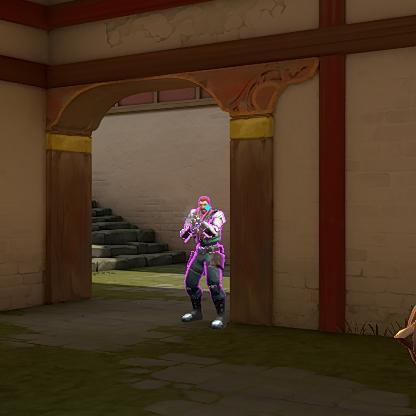enemyBody: (195, 212, 216, 251)
enemyHead: (200, 199, 208, 212)
